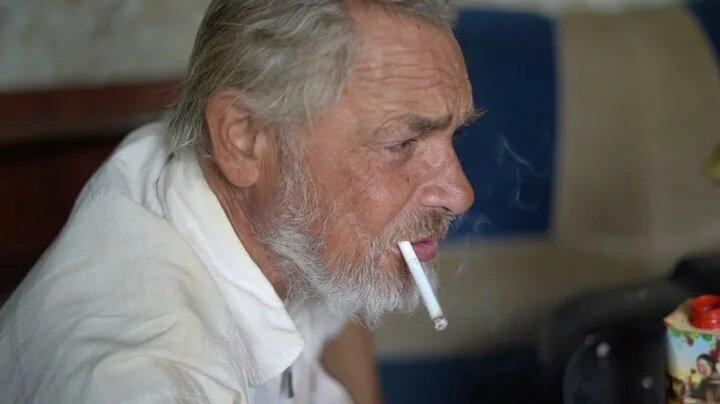cigarette: (397, 241, 448, 331)
